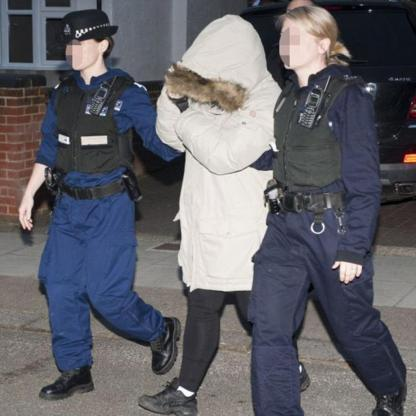face: (282, 16, 318, 72), (69, 19, 101, 72)
